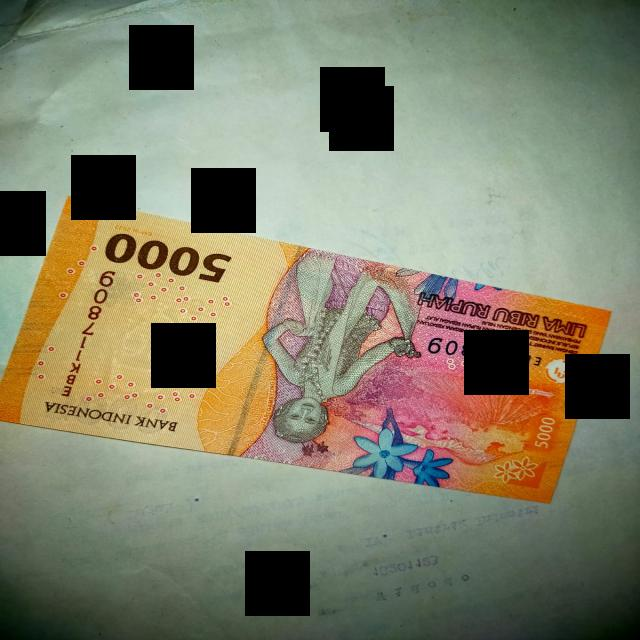lima ribu rupiah: (3, 198, 610, 502)
